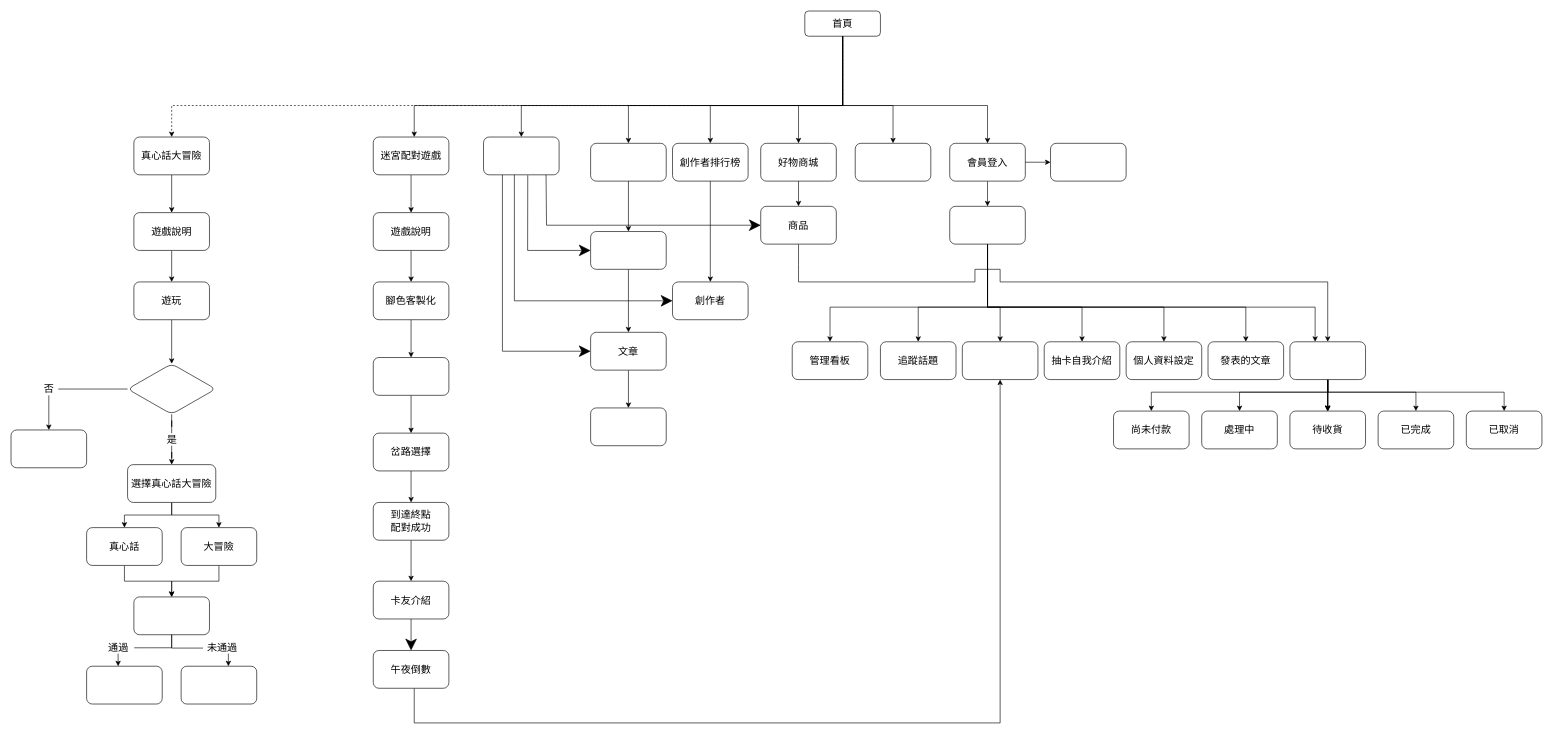
This 1553x739 diagram has some shape labels left out. Each missing label, with the centre of its shape:
其他玩家表決是否通過: the point at 171,615
得到積分: the point at 124,685
我的卡友: the point at 1000,360
我的訂單: the point at 1327,360
所有看板: the point at 628,162
扣除積分: the point at 218,685
搜尋: the point at 521,155
文章發布: the point at 628,426
是否被指到: the point at 171,388
會員中心: the point at 987,225
會員註冊: the point at 1088,162
發問: the point at 48,448
看板: the point at 628,250
聊天室: the point at 893,162
進入迷宮: the point at 411,376
